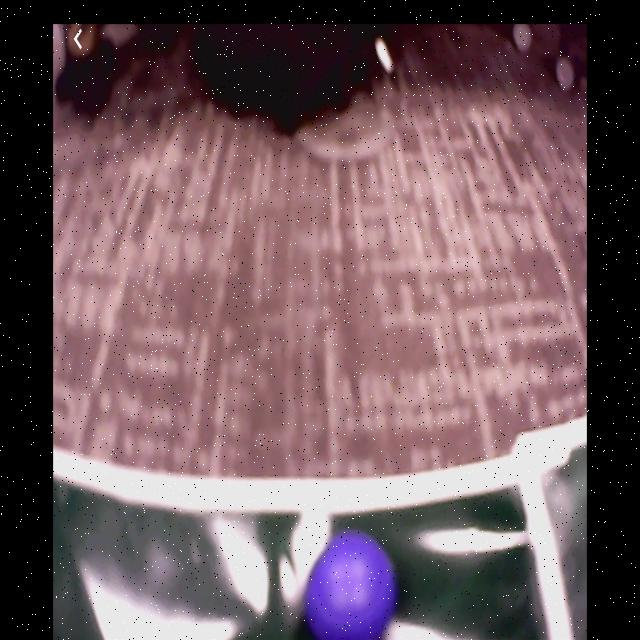ball: (305, 531, 394, 640)
